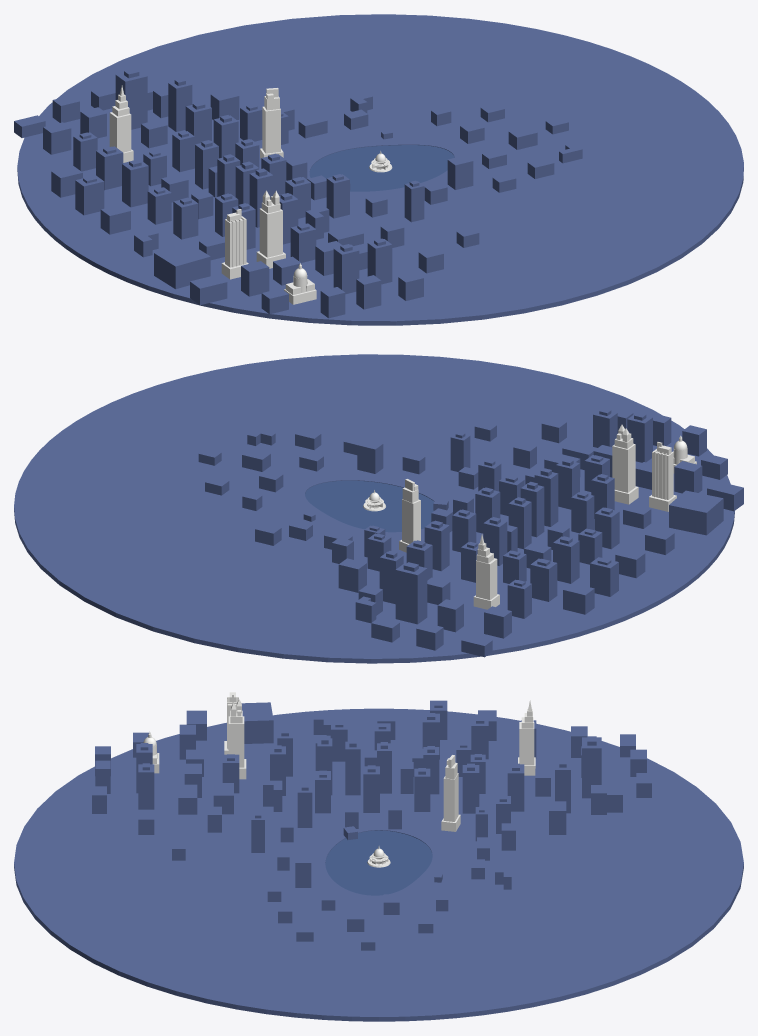
The model's file is orlando-diorama.glb.
The picture shows the model from 3 angles, top to bottom: view 1: azimuth 30°, elevation 25°; view 2: azimuth 150°, elevation 25°; view 3: azimuth 270°, elevation 25°; orthographic projection.
Parts seen in each view (by area): view 1: skyline_context_merged, lake_eola_basin, tower_200_s_orange, tower_55_west, tower_vue_lake_eola, tower_bank_of_america, tower_city_hall; view 2: skyline_context_merged, lake_eola_basin, tower_200_s_orange, tower_55_west, tower_bank_of_america, tower_vue_lake_eola; view 3: skyline_context_merged, lake_eola_basin, tower_vue_lake_eola, tower_200_s_orange, tower_bank_of_america.
Part boxes in pixels (x1=…): skyline_context_merged: x1=14, y1=14, x2=743, y2=325; lake_eola_basin: x1=309, y1=145, x2=454, y2=191; tower_200_s_orange: x1=256, y1=190, x2=285, y2=268; tower_55_west: x1=221, y1=209, x2=248, y2=279; tower_vue_lake_eola: x1=260, y1=88, x2=283, y2=158; tower_bank_of_america: x1=109, y1=85, x2=133, y2=162; tower_city_hall: x1=284, y1=263, x2=316, y2=304; skyline_context_merged: x1=14, y1=354, x2=743, y2=663; lake_eola_basin: x1=305, y1=480, x2=434, y2=532; tower_200_s_orange: x1=612, y1=424, x2=638, y2=504; tower_55_west: x1=649, y1=442, x2=676, y2=511; tower_bank_of_america: x1=473, y1=534, x2=499, y2=609; tower_vue_lake_eola: x1=399, y1=479, x2=420, y2=552; skyline_context_merged: x1=14, y1=700, x2=743, y2=1021; lake_eola_basin: x1=325, y1=830, x2=432, y2=895; tower_vue_lake_eola: x1=441, y1=755, x2=460, y2=831; tower_200_s_orange: x1=228, y1=699, x2=246, y2=779; tower_bank_of_america: x1=518, y1=700, x2=535, y2=775.
Size of the model in its own units: 172 by 20.38 by 172.
